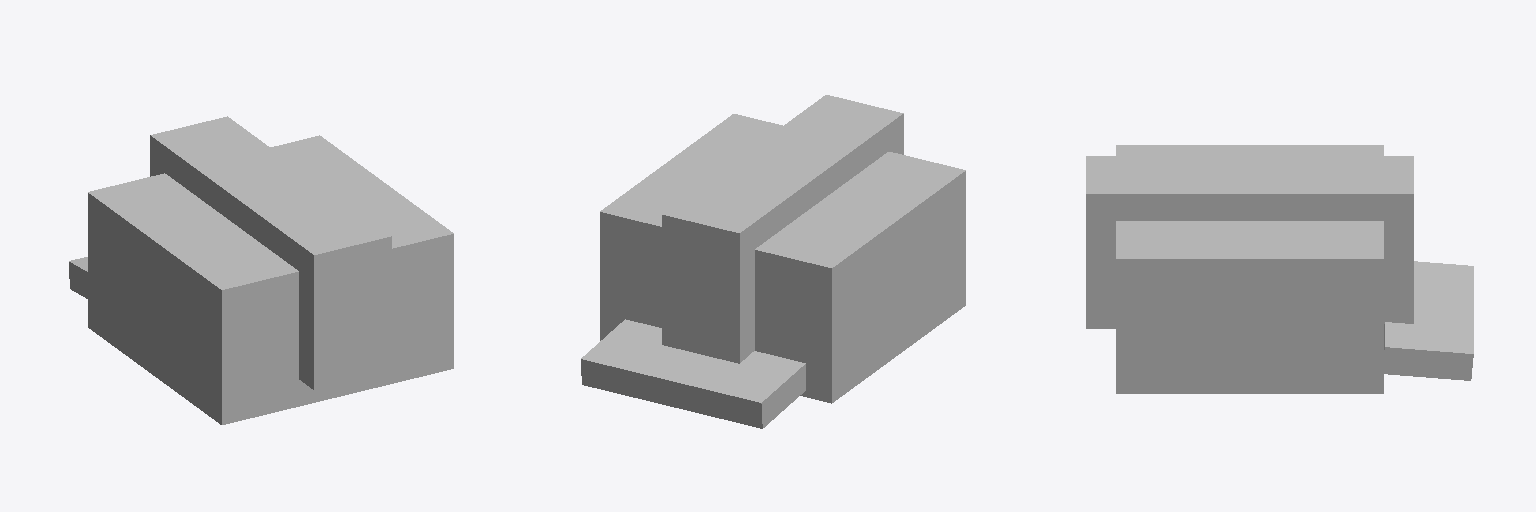
File: hard_hat.obj
The picture shows the model from 3 angles: view 1: azimuth 30°, elevation 25°; view 2: azimuth 150°, elevation 25°; view 3: azimuth 270°, elevation 25°; orthographic projection.
Visible parts, largest first — view 1: Shape1, Shape4, Shape6, Shape3, Shape2; view 2: Shape1, Shape4, Shape2, Shape3, Shape6; view 3: Shape1, Shape4, Shape2, Shape6, Shape3.
Boxes of the visible parts, x1=… form: Shape1: x1=88, y1=135, x2=453, y2=424; Shape4: x1=165, y1=127, x2=376, y2=270; Shape6: x1=299, y1=226, x2=391, y2=389; Shape3: x1=150, y1=116, x2=241, y2=176; Shape2: x1=69, y1=257, x2=87, y2=298; Shape1: x1=600, y1=114, x2=965, y2=403; Shape4: x1=677, y1=105, x2=888, y2=248; Shape2: x1=581, y1=319, x2=805, y2=428; Shape3: x1=662, y1=204, x2=754, y2=363; Shape6: x1=812, y1=95, x2=903, y2=154; Shape1: x1=1116, y1=145, x2=1383, y2=393; Shape4: x1=1116, y1=156, x2=1383, y2=220; Shape2: x1=1384, y1=261, x2=1473, y2=380; Shape6: x1=1086, y1=156, x2=1115, y2=328; Shape3: x1=1384, y1=156, x2=1413, y2=323.
Bounding box in the file's own units: 0.5625 × 0.375 × 0.8125.